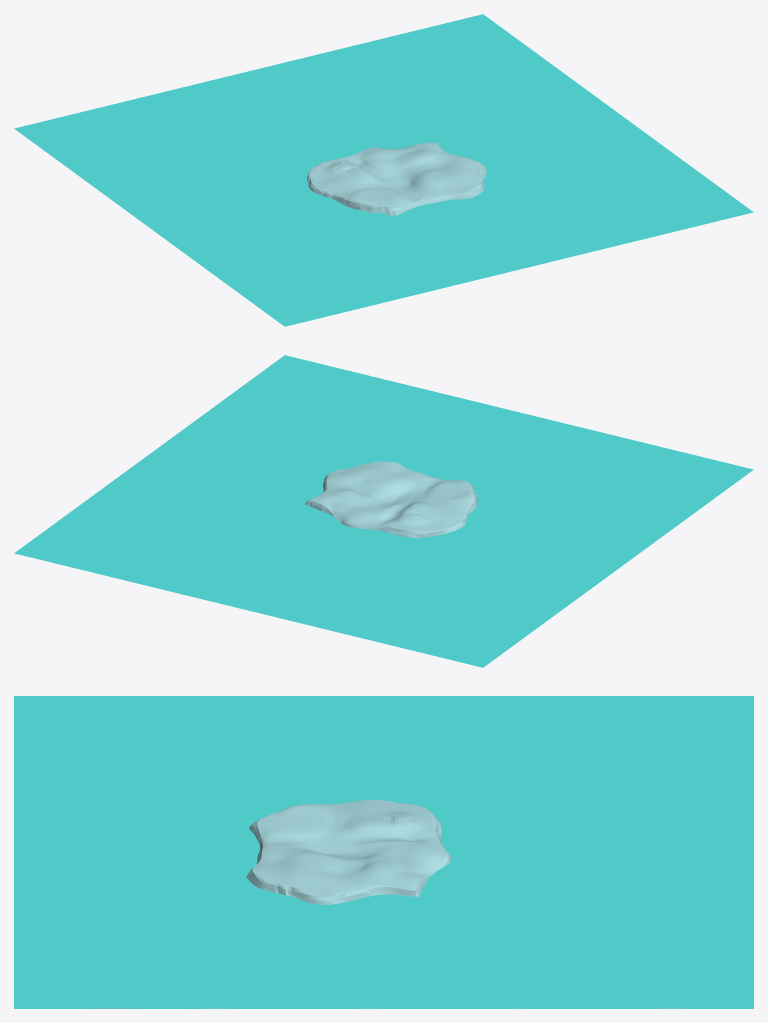
The model's file is pole_sud_ground.fbx.
3 renders of one model, top to bottom at view 1: azimuth 30°, elevation 25°; view 2: azimuth 150°, elevation 25°; view 3: azimuth 270°, elevation 25°, orthographic. The views are drawn at different scales.
Visible parts, largest first — view 1: Plane.001; view 2: Plane.001; view 3: Plane.001.
Part boxes in pixels (x1,y1,x2,y2): Plane.001: (14, 14, 753, 326); Plane.001: (14, 355, 753, 667); Plane.001: (14, 696, 753, 1008).
Bounding box in the file's own units: 60903 × 1804 × 60903.
